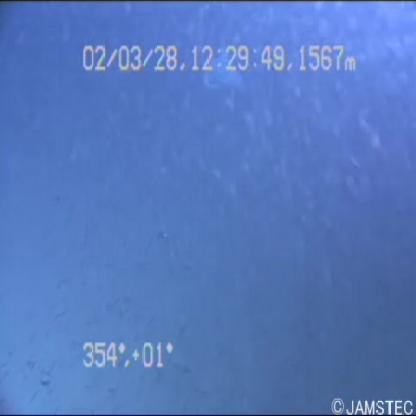Rác: (200, 45, 248, 96)
